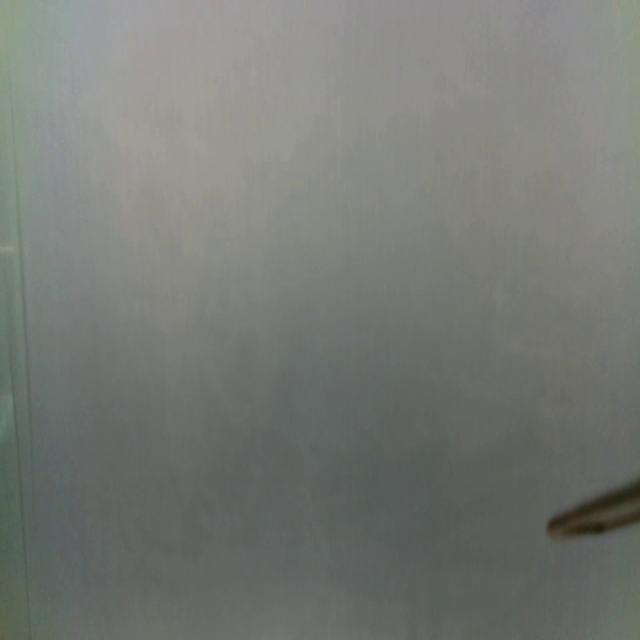crease: (8, 67, 34, 442), (7, 347, 34, 639)
